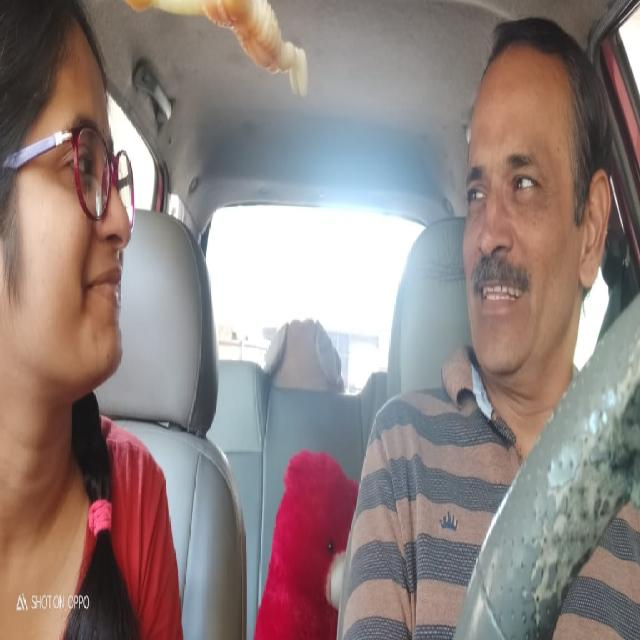LeftRight: (456, 12, 615, 381), (0, 0, 136, 385)
talking: (473, 271, 529, 317)
